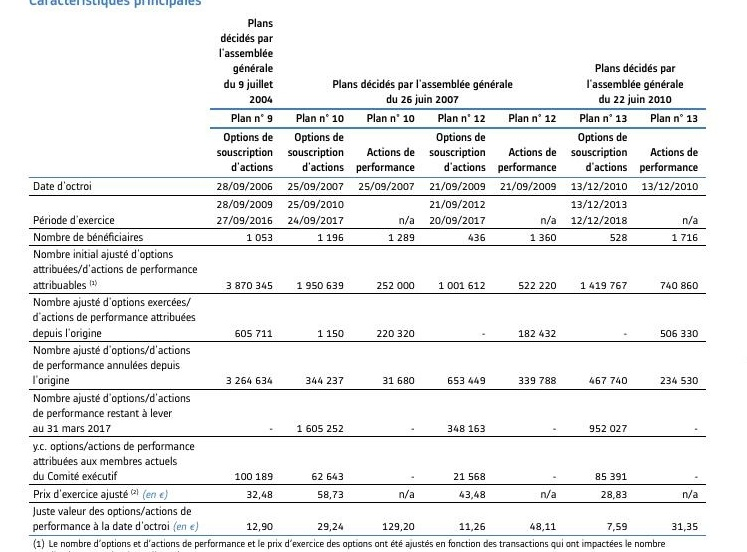table: (0, 0, 747, 552)
